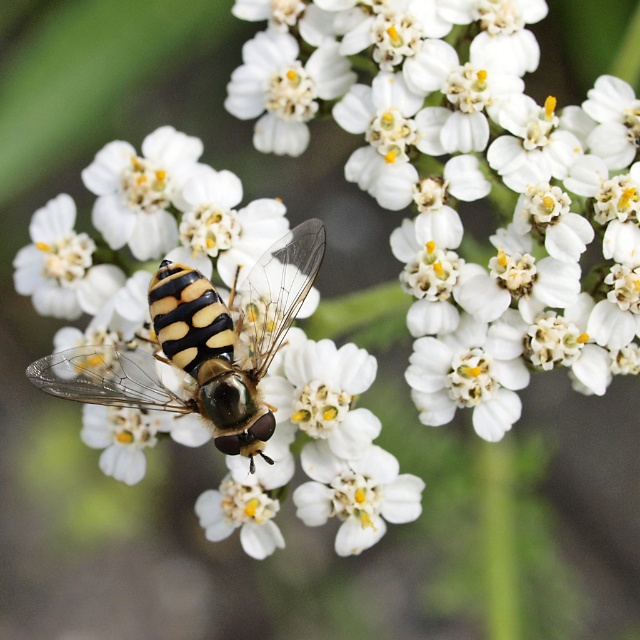Moths and butterflies: (25, 219, 369, 478)
